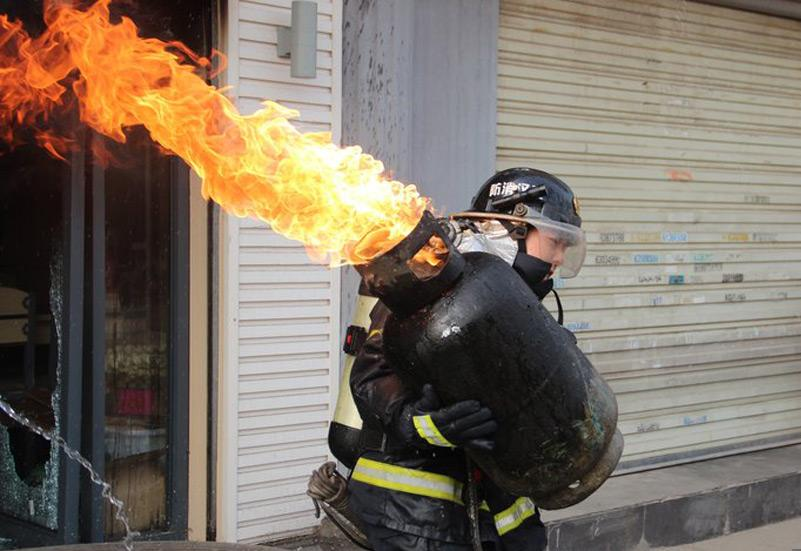fire: (1, 5, 423, 263)
